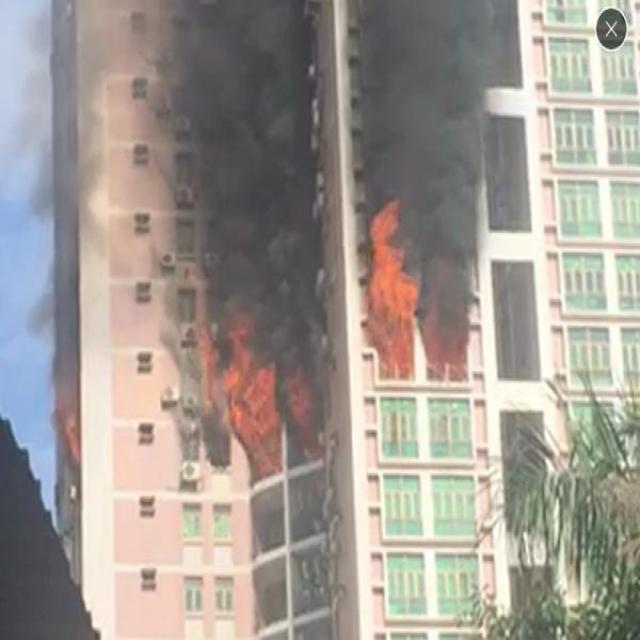fire: (198, 322, 319, 462), (364, 198, 417, 370), (424, 318, 468, 380), (60, 407, 81, 462)
smoke: (168, 3, 315, 348), (18, 2, 118, 415), (362, 0, 492, 301)
